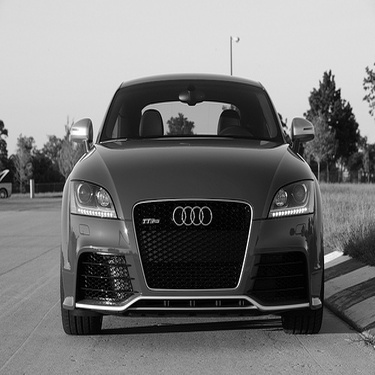car: (42, 62, 335, 342)
